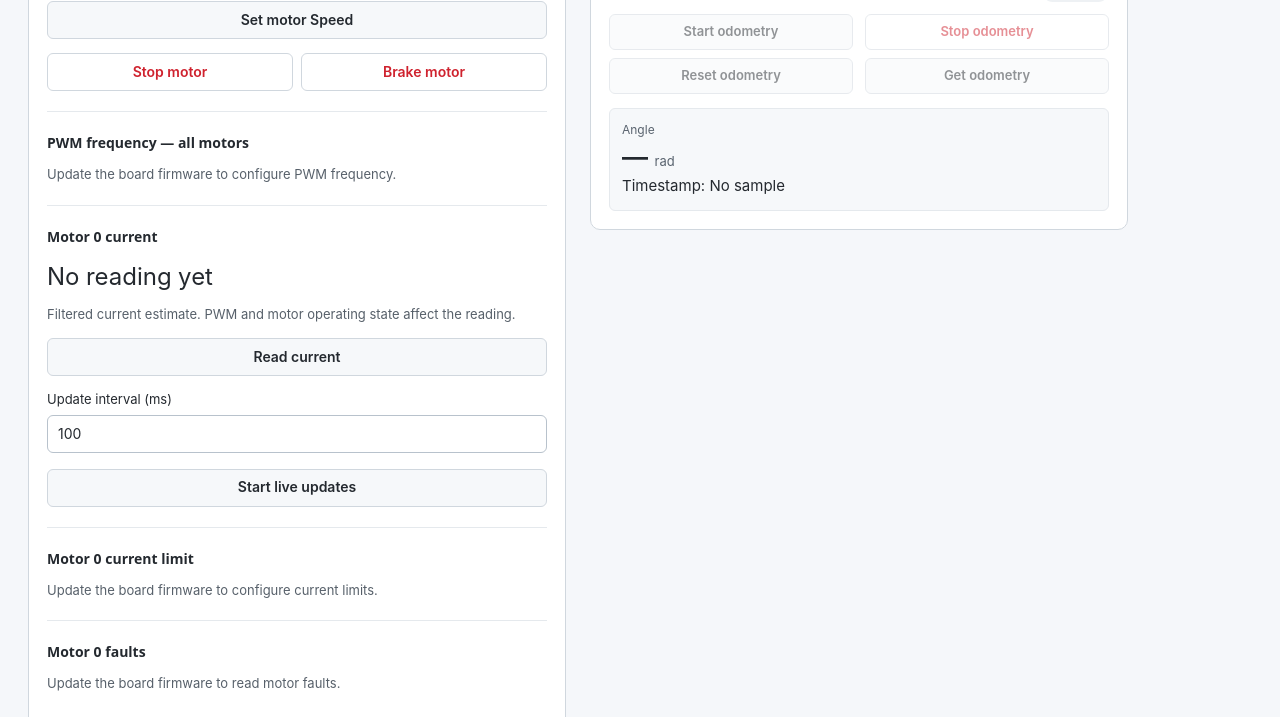
Scenario: does not carry delayed reads into another motor and reports saturation
(page scrolled)
Step 1. Click the button "Read current" → (297, 357), box top-left (47, 338), bottom-right (547, 376)
(page scrolled)
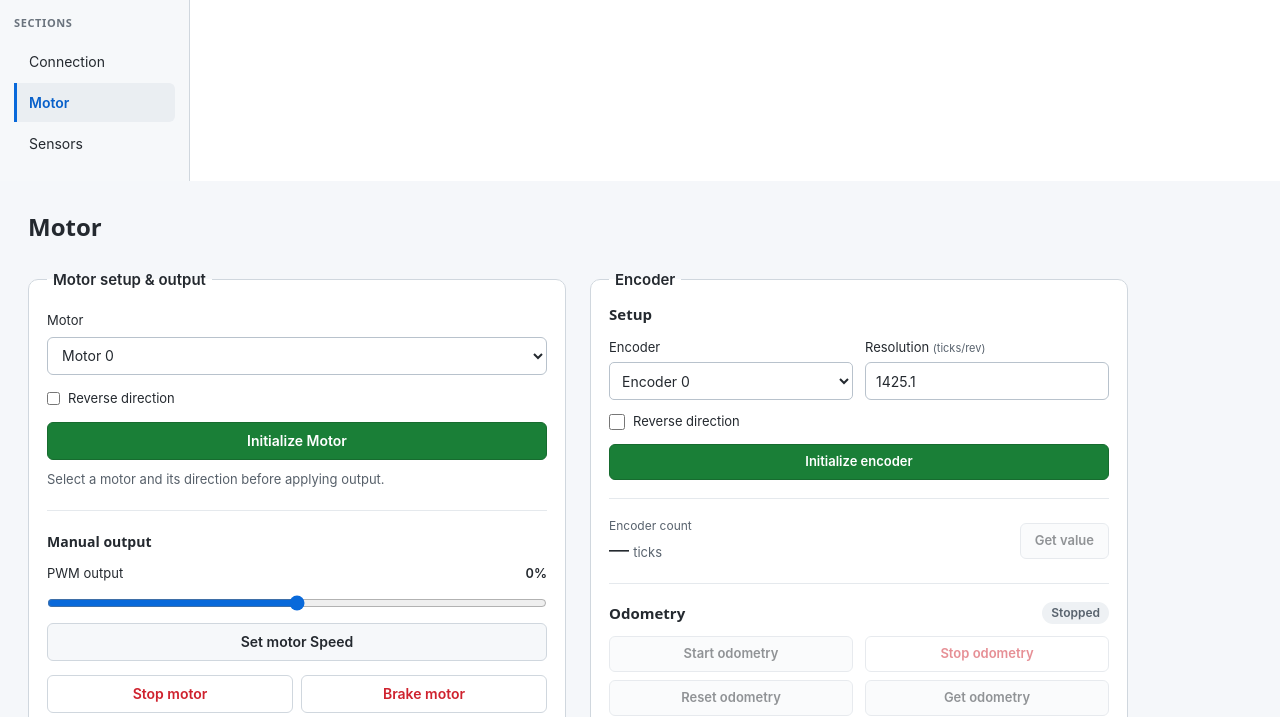
Step 2. Select "Motor 1" in the dropdown labelled "Motor" → (297, 356), box top-left (47, 336), bottom-right (547, 374)
(page scrolled)
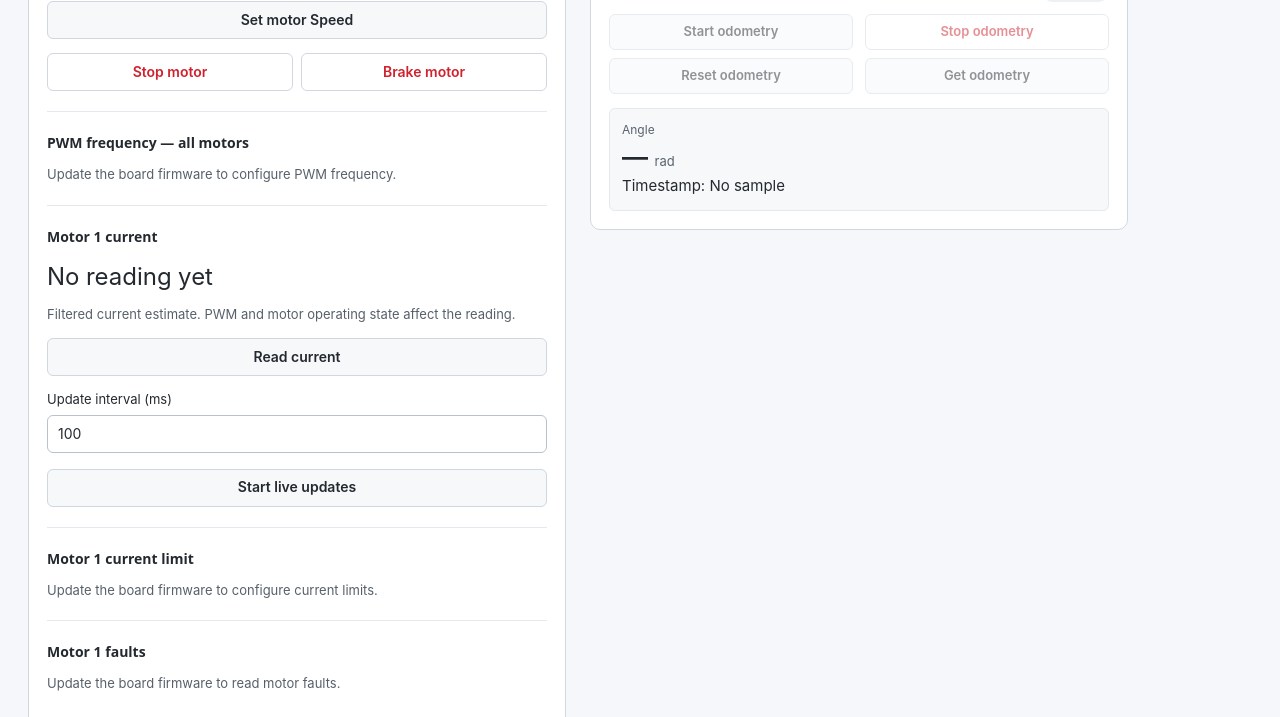
Expected: the text named "Latest motor 1 current" reads "No reading yet", top-left (47, 262), bottom-right (213, 290)
Step 3. Click the button "Read current" → (297, 357), box top-left (47, 338), bottom-right (547, 376)
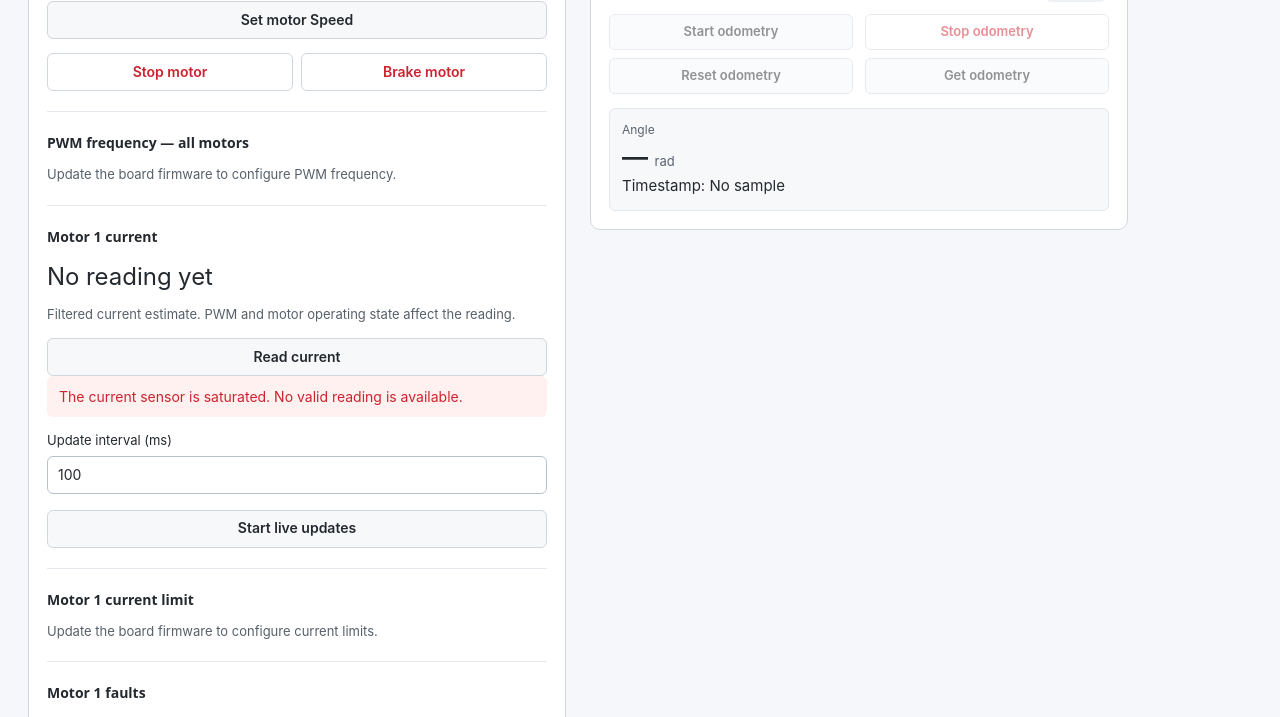
Result: the message shows "saturated" at top-left (59, 388), bottom-right (463, 405)
